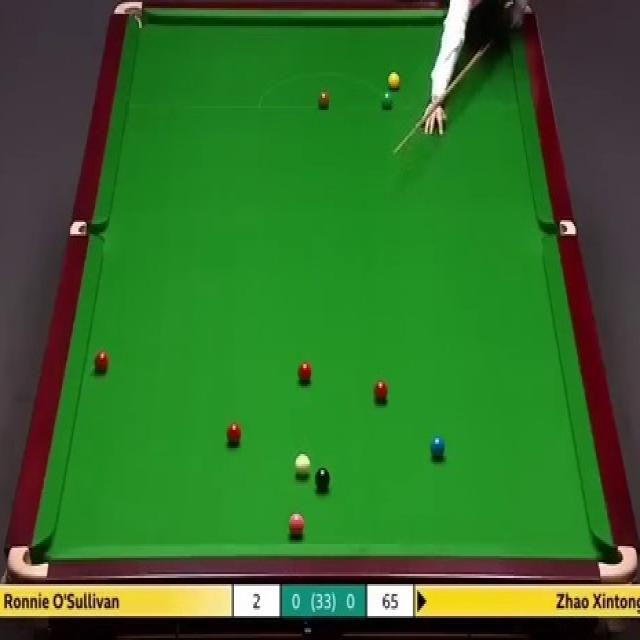pocket: (7, 540, 50, 582), (597, 540, 637, 583), (113, 0, 143, 28), (64, 217, 106, 237), (540, 220, 574, 235)
